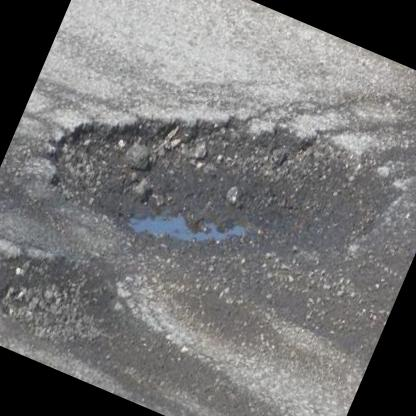pothole: (33, 37, 410, 324), (0, 227, 129, 366)
